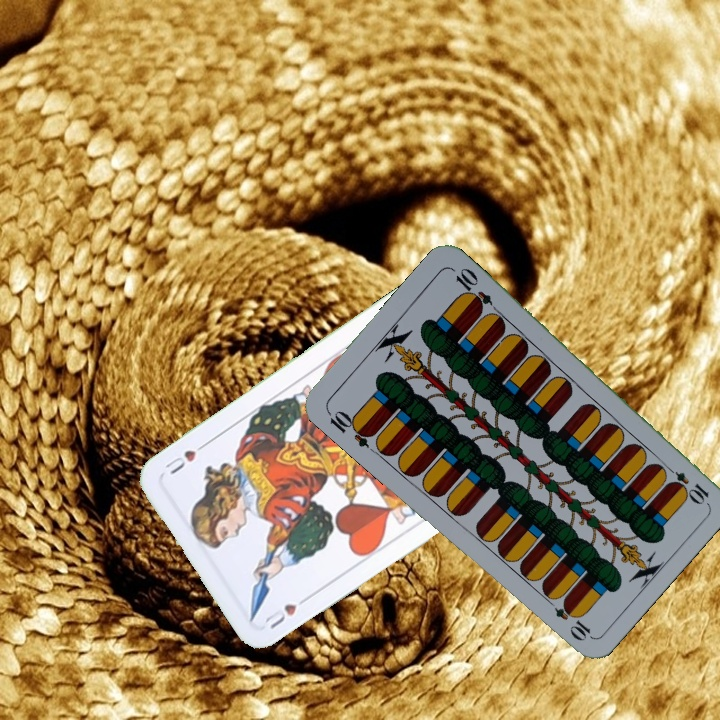E10: (659, 461, 712, 506), (323, 406, 377, 450)
HU: (258, 591, 313, 632)
